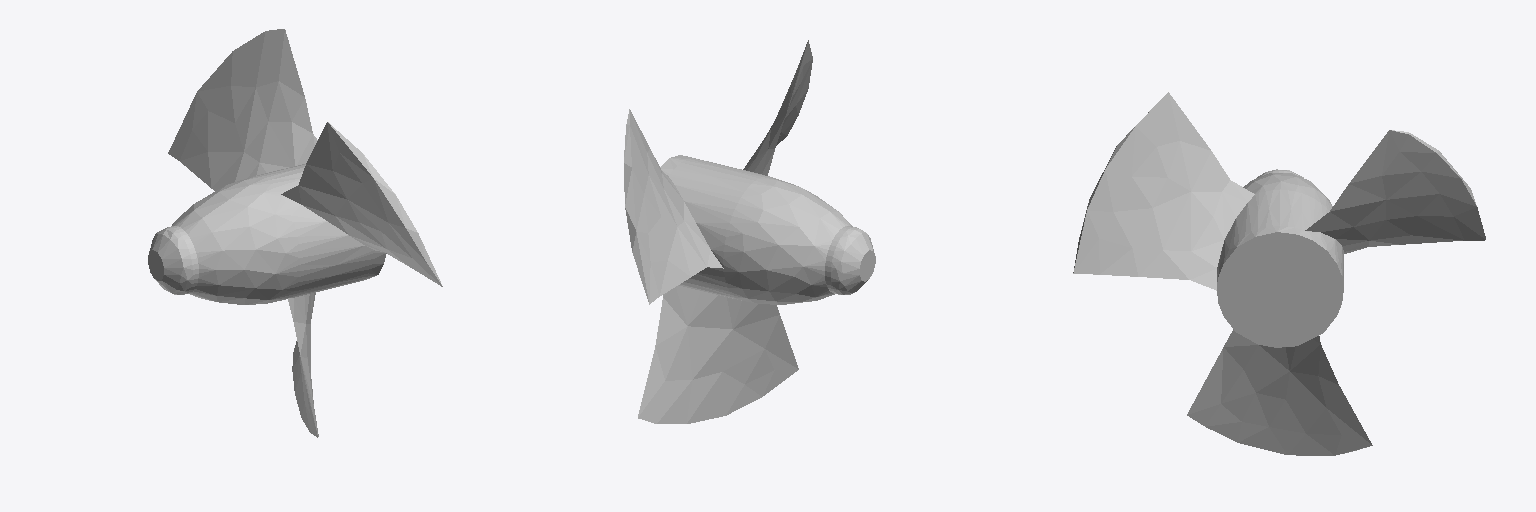
File: girona_propeller.obj
3 views of the same model, side by side, from view 1: azimuth 30°, elevation 25°; view 2: azimuth 150°, elevation 25°; view 3: azimuth 270°, elevation 25° (orthographic).
Size of the model in its own units: 0.0995 by 0.1636 by 0.1784.